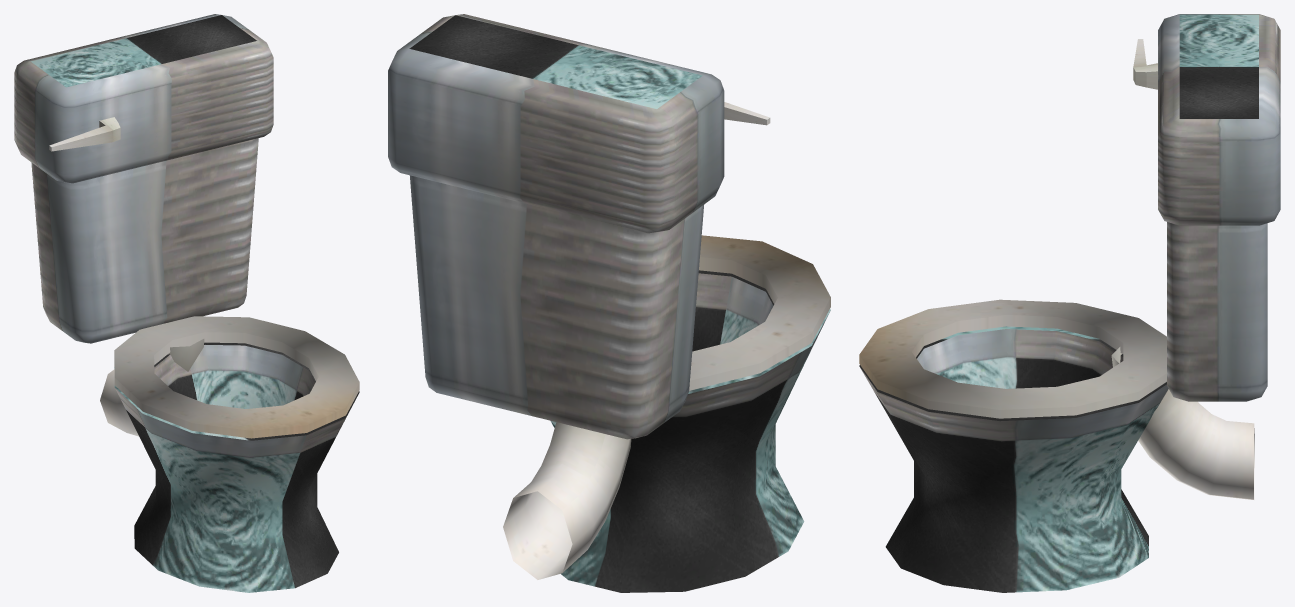
File: Toilet.glb
3 views of the same model, side by side, from view 1: azimuth 30°, elevation 25°; view 2: azimuth 150°, elevation 25°; view 3: azimuth 270°, elevation 25° (orthographic). The views are drawn at different scales.
Visible parts, largest first — view 1: Toilet; view 2: Toilet; view 3: Toilet.
Part boxes in pixels (left/top/right/bottom): Toilet: left=14, top=14, right=359, bottom=592; Toilet: left=388, top=14, right=830, bottom=592; Toilet: left=859, top=14, right=1280, bottom=592.
Size of the model in its own units: 6.48 by 11.16 by 8.9.
Materials: 7 (7 with a texture image).
